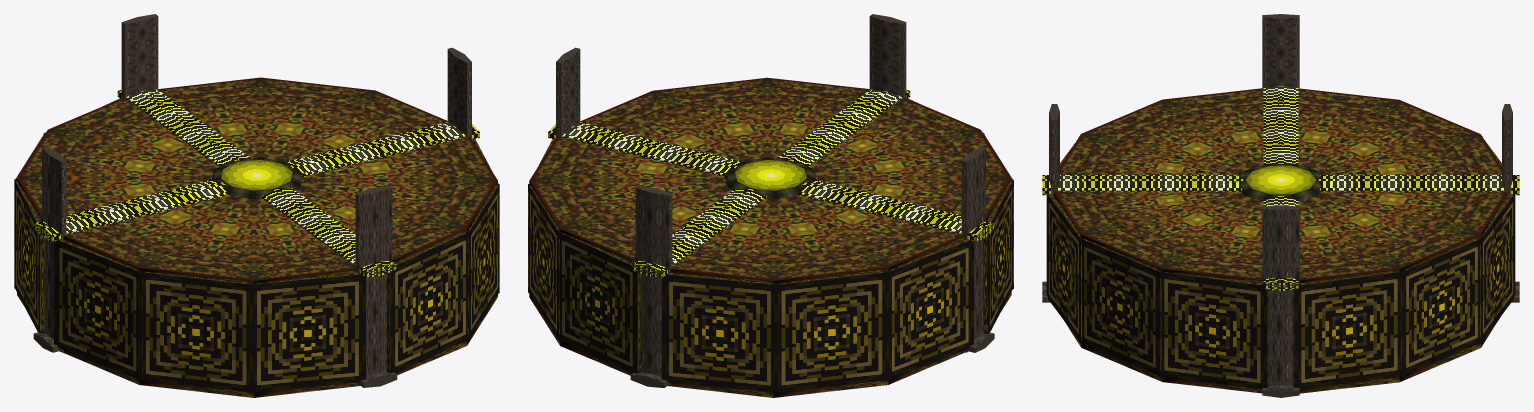
File: SelectStage.fbx
3 views of the same model, side by side, from view 1: azimuth 30°, elevation 25°; view 2: azimuth 150°, elevation 25°; view 3: azimuth 270°, elevation 25° (orthographic). The views are drawn at different scales.
Visible parts, largest first — view 1: cylinder_selection_4, cylinder_selection_6, cylinder_selection_7, cylinder_selection_5, cuboid_5, cuboid_3, cuboid_4, cuboid_1, cylinder_11, cylinder_2, cuboid, cylinder_4 (+11 smaller); view 2: cylinder_selection_7, cylinder_selection_5, cylinder_selection_4, cylinder_selection_6, cuboid_11, cuboid_7, cuboid_6, cuboid_8, cylinder_13, cylinder_2, cuboid_10, cylinder_4 (+11 smaller); view 3: cylinder_selection_6, cylinder_selection_5, cylinder_selection_4, cylinder_selection_7, cuboid_2, cuboid_9, cuboid, cuboid_10, cylinder_12, cuboid_1, cuboid_8, cylinder_3 (+11 smaller).
Part boxes in pixels (x1,y1,x2,y2): cylinder_selection_4: [63, 195, 357, 283]; cylinder_selection_6: [158, 77, 447, 161]; cylinder_selection_7: [17, 98, 218, 221]; cylinder_selection_5: [295, 137, 497, 262]; cuboid_5: [249, 273, 365, 392]; cuboid_3: [138, 271, 253, 392]; cuboid_4: [54, 239, 142, 380]; cuboid_1: [387, 230, 470, 373]; cylinder_11: [355, 185, 392, 385]; cylinder_2: [34, 179, 230, 241]; cuboid: [467, 183, 499, 339]; cylinder_4: [285, 122, 479, 176]; cylinder_selection_7: [670, 195, 963, 283]; cylinder_selection_5: [580, 77, 869, 161]; cylinder_selection_4: [809, 98, 1011, 221]; cylinder_selection_6: [529, 137, 732, 262]; cuboid_11: [662, 273, 778, 392]; cuboid_7: [774, 271, 889, 392]; cuboid_6: [884, 239, 973, 380]; cuboid_8: [557, 230, 640, 373]; cylinder_13: [635, 185, 672, 386]; cylinder_2: [797, 179, 993, 241]; cuboid_10: [528, 184, 559, 340]; cylinder_4: [548, 122, 742, 176]; cylinder_selection_6: [1289, 191, 1507, 285]; cylinder_selection_5: [1053, 191, 1263, 283]; cylinder_selection_4: [1060, 88, 1263, 174]; cylinder_selection_7: [1298, 88, 1501, 174]; cuboid_2: [1157, 271, 1268, 389]; cuboid_9: [1293, 270, 1404, 389]; cuboid: [1079, 237, 1161, 376]; cuboid_10: [1400, 237, 1482, 376]; cylinder_12: [1262, 205, 1299, 385]; cuboid_1: [1046, 194, 1081, 343]; cuboid_8: [1479, 194, 1515, 343]; cylinder_3: [1042, 175, 1245, 195].
Size of the model in its own units: 675 by 292 by 675.
Materials: 7 (7 with a texture image).
